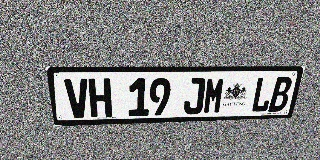1: (128, 78, 150, 116)
9: (149, 78, 171, 116)
B: (268, 77, 293, 112)
H: (88, 78, 112, 118)
J: (183, 78, 206, 115)
L: (250, 77, 275, 112)
M: (202, 77, 226, 114)
V: (64, 79, 90, 118)
